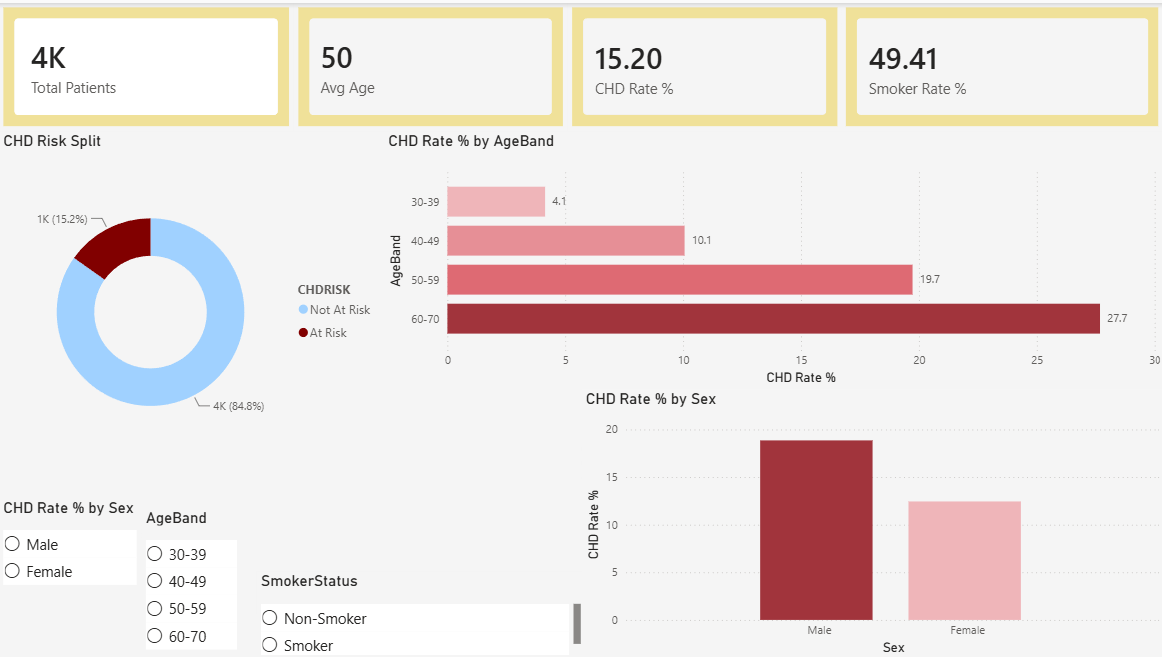

This screenshot's page, from the dashboard's own definition file:
{"tool":"powerbi","page":{"name":"Overview","canvas":[1280,720],"ordinal":0},"visuals":[{"type":"cardVisual","fields":{"Data":["framingham.Total Patients"]},"box":[0,0,323.6,140.7],"z":0},{"type":"cardVisual","fields":{"Data":["framingham.CHD Rate %"]},"box":[623.7,0,301.7,140.7],"z":1000},{"type":"cardVisual","fields":{"Data":["framingham.Smoker Rate %"]},"box":[925.5,0,354.9,140.7],"z":2000},{"type":"cardVisual","fields":{"Data":["framingham.Avg Age"]},"box":[323.6,0,300.1,140.7],"z":3000},{"type":"donutChart","title":"CHD Risk Split","fields":{"Category":["framingham.CHDRISK"],"Y":["framingham.Total Patients"]},"box":[0,140.7,422.1,365.8],"z":4000},{"type":"clusteredBarChart","fields":{"Category":["framingham.AgeBand"],"Y":["framingham.CHD Rate %"]},"box":[422.1,140.7,858.2,283],"z":5000},{"type":"listSlicer","fields":{"Values":["framingham.Sex"]},"box":[0,544,156.3,117.2],"z":6000},{"type":"listSlicer","fields":{"Values":["framingham.AgeBand"]},"box":[156.3,555,123.5,165.7],"z":7000},{"type":"listSlicer","fields":{"Values":["framingham.SmokerStatus"]},"box":[283,623.7,361.1,96.9],"z":8000},{"type":"columnChart","fields":{"Category":["framingham.Sex"],"Y":["framingham.CHD Rate %"]},"box":[639.4,423.6,640.9,297],"z":9000}]}

Visuals, with their boxes in screenshot pixels (x1, y1, x2, y2), scaled from the page's 1280x720 canvas onto the 1162x657 screenshot:
cardVisual - framingham.Total Patients: bbox(0, 0, 294, 128)
cardVisual - framingham.CHD Rate %: bbox(566, 0, 840, 128)
cardVisual - framingham.Smoker Rate %: bbox(840, 0, 1161, 128)
cardVisual - framingham.Avg Age: bbox(294, 0, 566, 128)
"CHD Risk Split" donutChart: bbox(0, 128, 383, 462)
clusteredBarChart - framingham.AgeBand x framingham.CHD Rate %: bbox(383, 128, 1161, 387)
listSlicer - framingham.Sex: bbox(0, 496, 142, 603)
listSlicer - framingham.AgeBand: bbox(142, 506, 254, 656)
listSlicer - framingham.SmokerStatus: bbox(257, 569, 585, 656)
columnChart - framingham.Sex x framingham.CHD Rate %: bbox(580, 387, 1161, 656)
